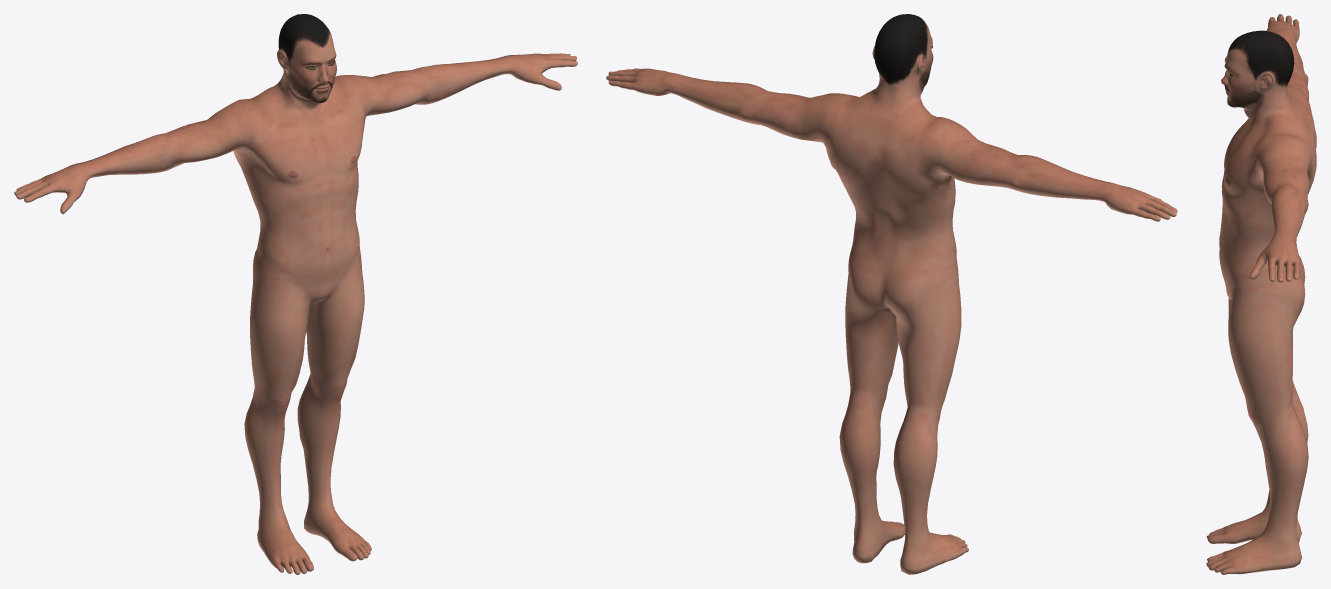
File: ottomansoldier2.obj
3 renders of one model, left to right at view 1: azimuth 30°, elevation 25°; view 2: azimuth 150°, elevation 25°; view 3: azimuth 270°, elevation 25°, orthographic. The views are drawn at different scales.
Visible parts, largest first — view 1: Body; view 2: Body; view 3: Body.
Part boxes in pixels (box(x1,y1,x2,y2)): Body: box(14, 14, 577, 574); Body: box(606, 14, 1177, 574); Body: box(1206, 14, 1316, 574).
Size of the model in its own units: 194 by 176 by 33.71.
Materials: 1 (1 with a texture image).
